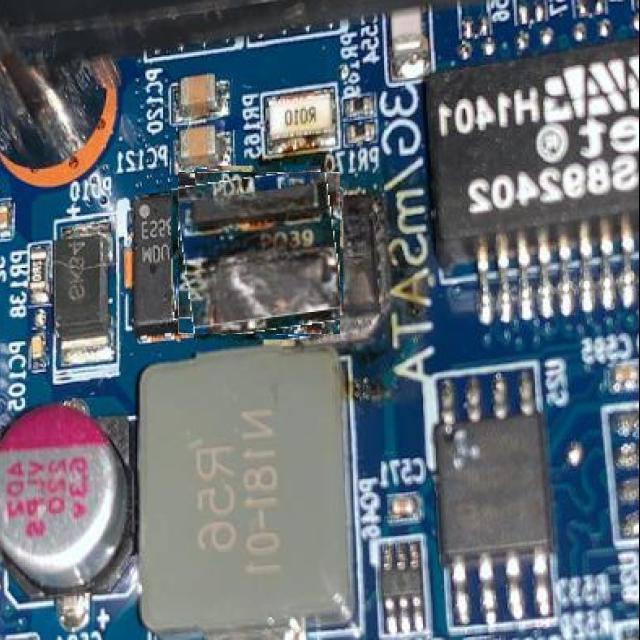damged: (178, 172, 340, 334)
